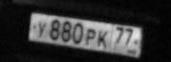license-plateSW: (30, 12, 143, 59)
